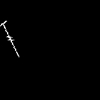treble_crochet: (1, 21, 18, 55)
